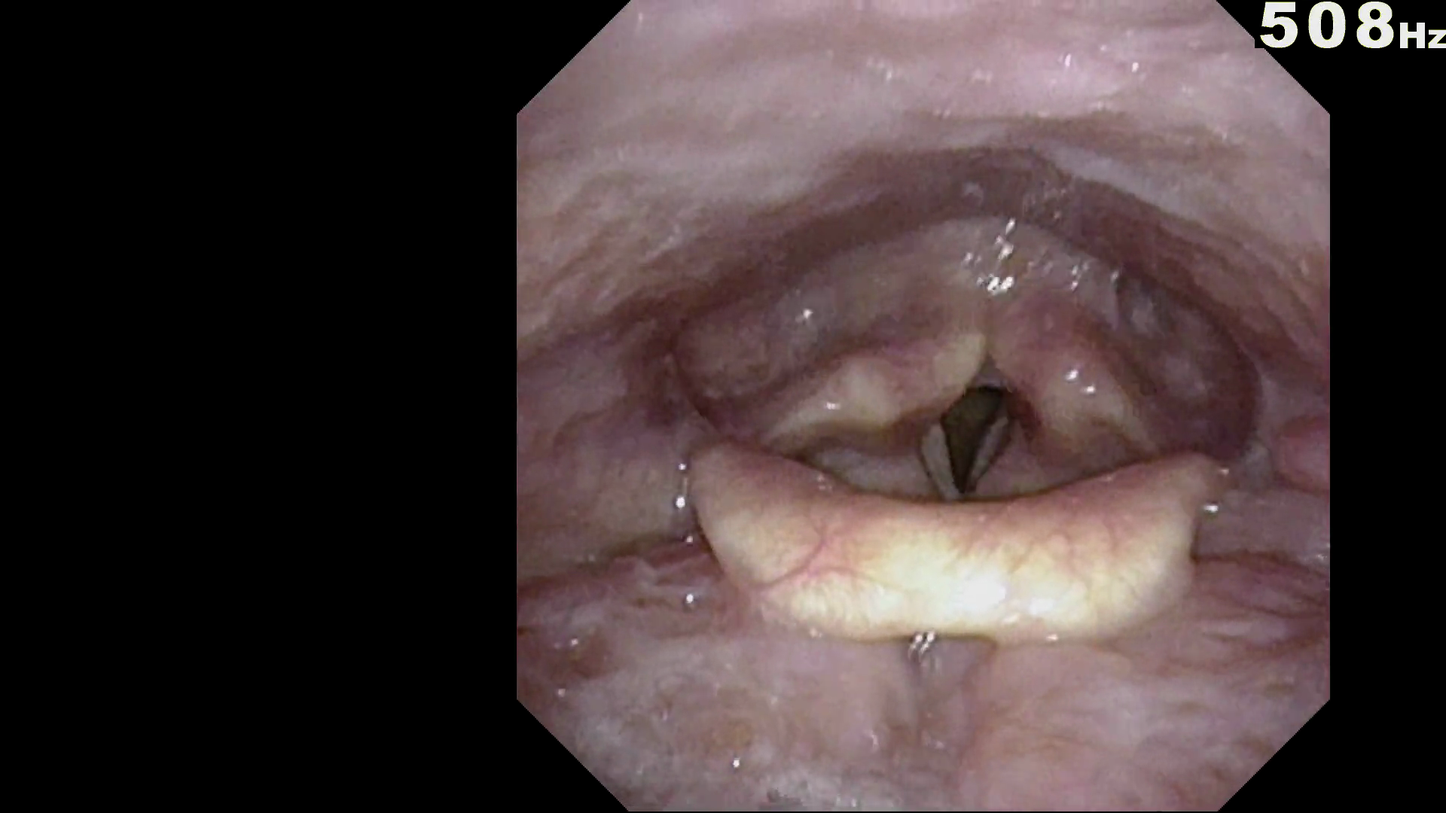epiglottis: (670, 401, 1243, 654)
trachea: (879, 338, 1060, 528)
